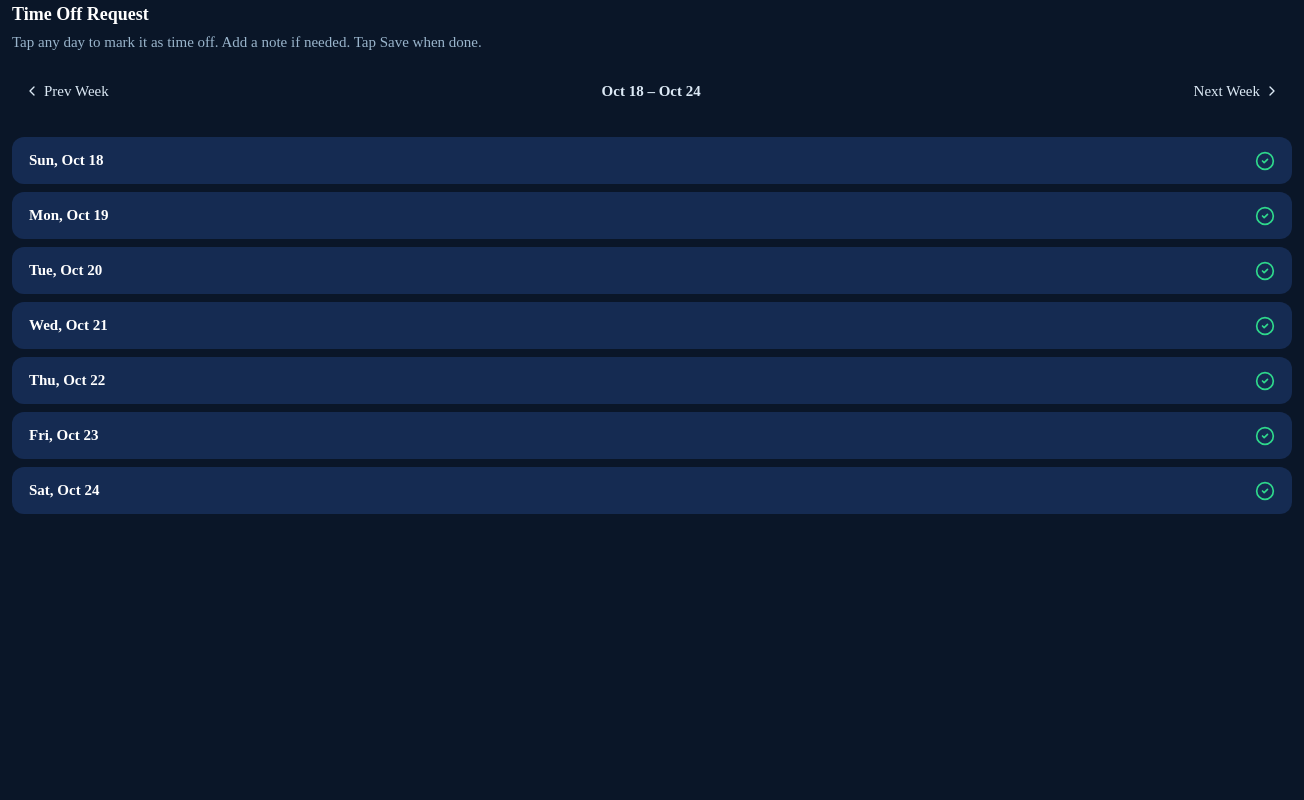
crew time off — a failure says whether the connection is the cause › surfaces a refusal returned by the action
The image size is (1304, 800).
Click the button "Sun, Oct 18" at (66, 160), box [13,138,1291,183]
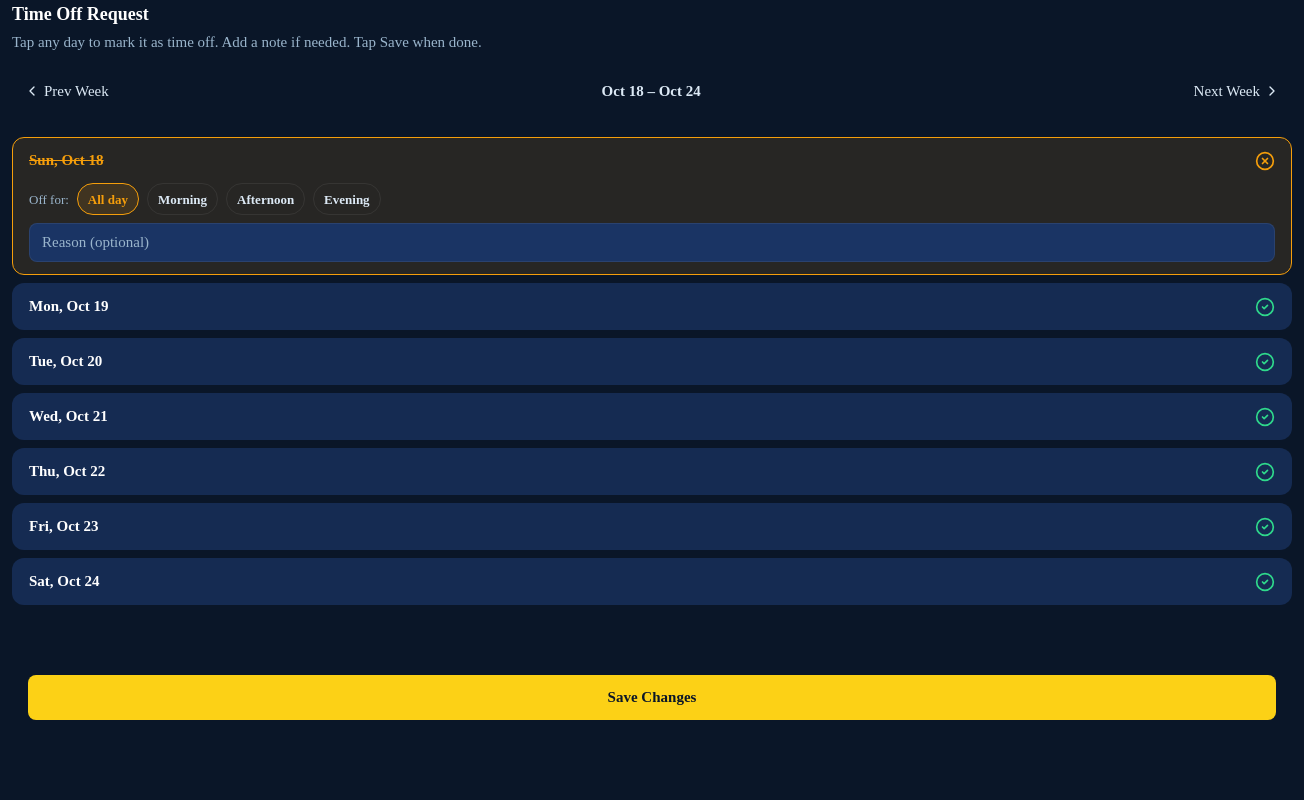
Click the button "Save Changes" at (652, 698), box [28,675,1276,720]
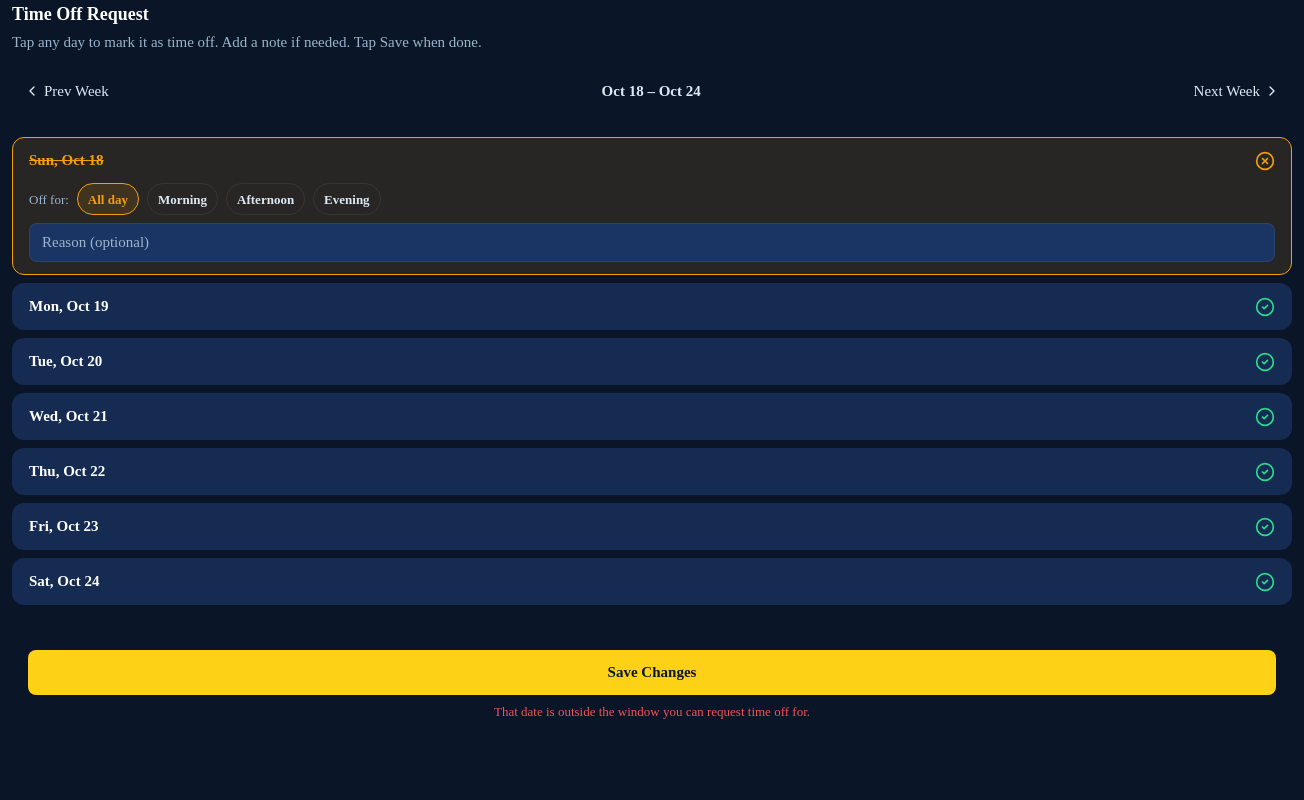
Check: the text "outside the window" is shown, box [494,704,810,719]
